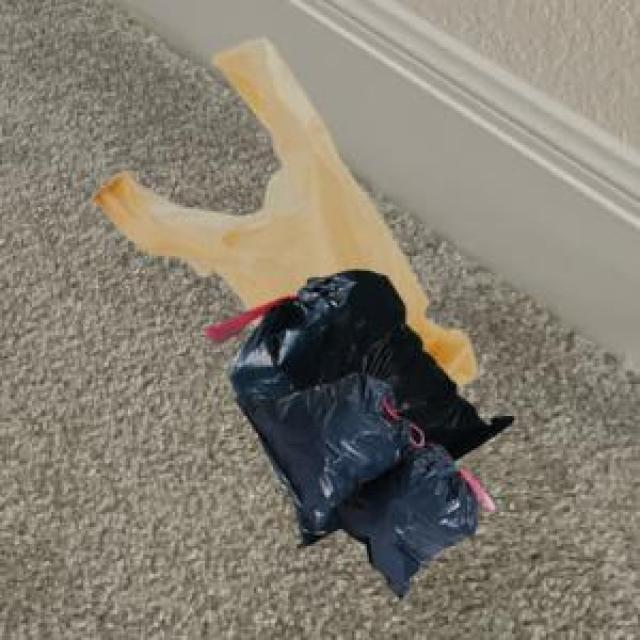miscellaneous trash: (203, 267, 510, 544), (233, 369, 491, 593)
